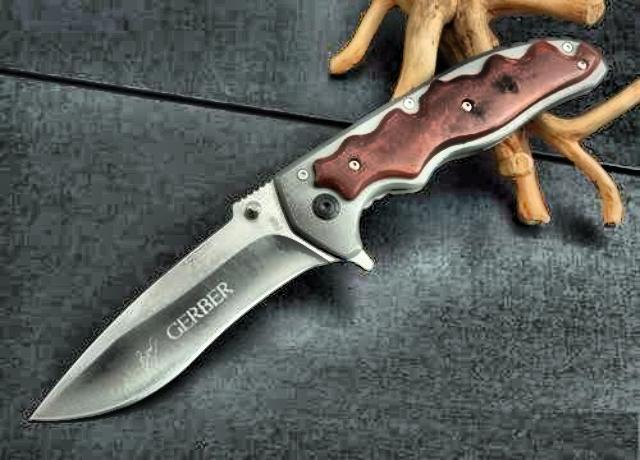knife: (19, 152, 377, 432)
